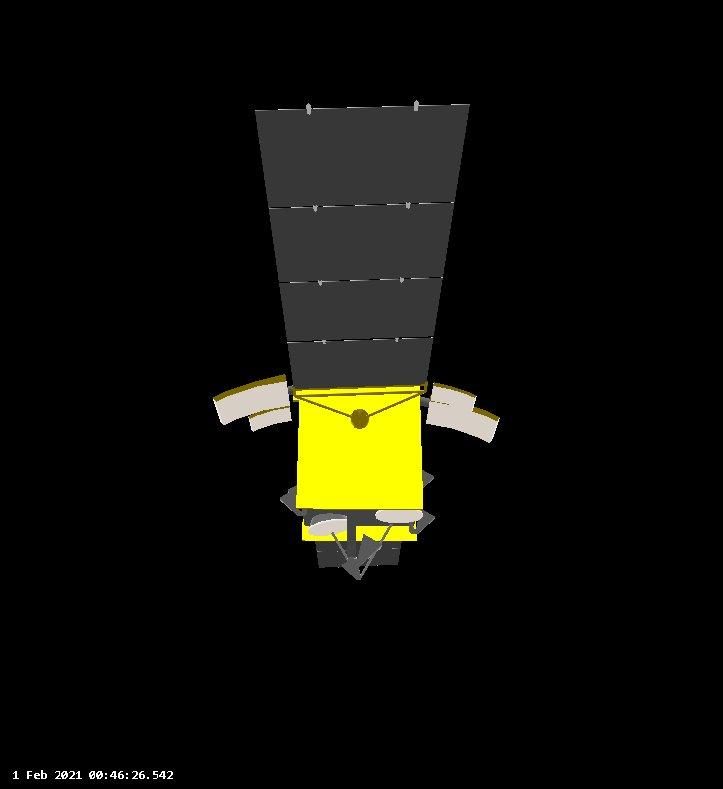antenna: (210, 375, 294, 424), (425, 402, 504, 440), (243, 403, 294, 437), (428, 380, 478, 413), (372, 505, 427, 529), (309, 514, 351, 539)
body: (285, 380, 429, 550)
solar: (249, 98, 479, 383), (302, 478, 409, 575)
